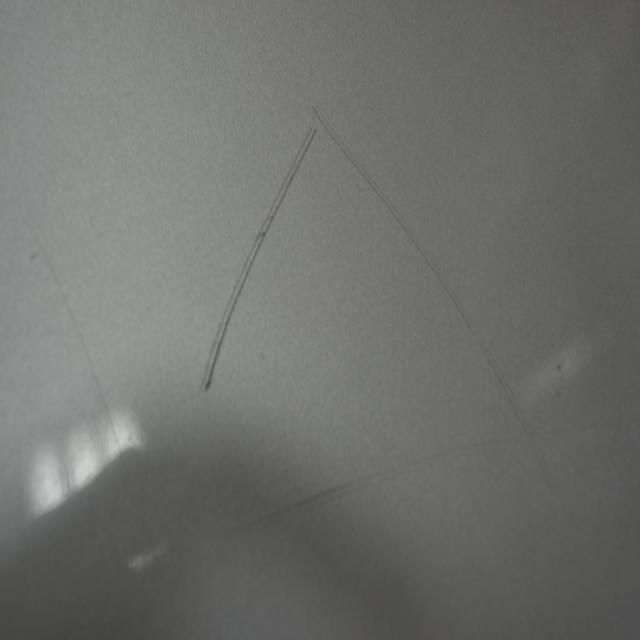dirt: (555, 356, 562, 373)
scratch: (306, 88, 564, 503), (12, 196, 162, 555), (242, 411, 638, 536), (194, 121, 322, 396)
